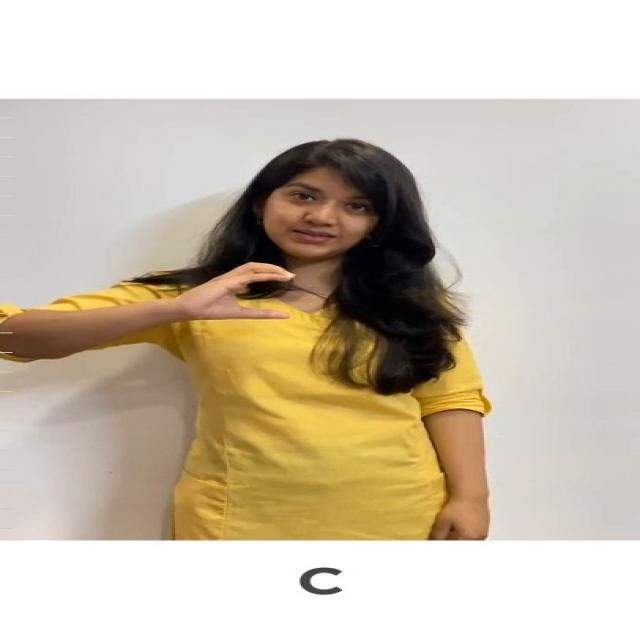c: (162, 252, 309, 336)
